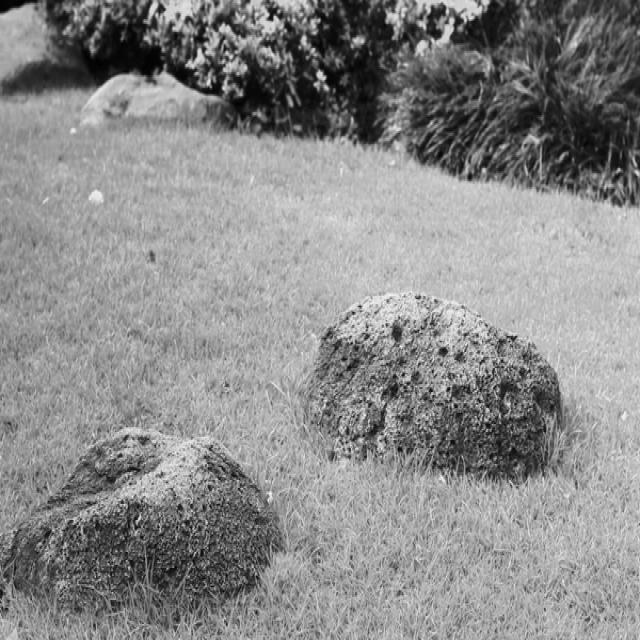Stone: (0, 430, 279, 608), (306, 292, 560, 478), (0, 2, 92, 92), (80, 74, 236, 123)
